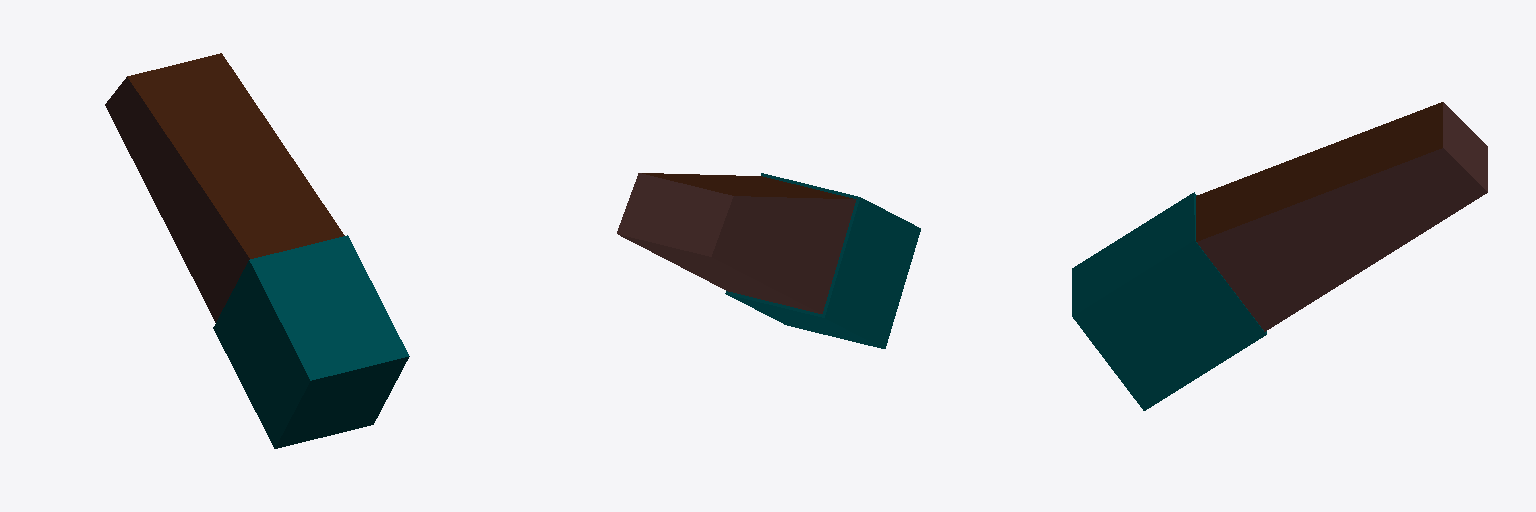
Rendered from hand_004.obj.
3 views of the same model, side by side, from view 1: azimuth 30°, elevation 25°; view 2: azimuth 150°, elevation 25°; view 3: azimuth 270°, elevation 25° (orthographic).
Parts seen in each view (by area): view 1: Куб; view 2: Куб; view 3: Куб.
Part boxes in pixels (x1,y1,x2,y2): Куб: (105,53,409,448); Куб: (617,173,920,348); Куб: (1072,102,1487,410).
Bounding box in the file's own units: 0.2006 × 0.5068 × 0.7272.